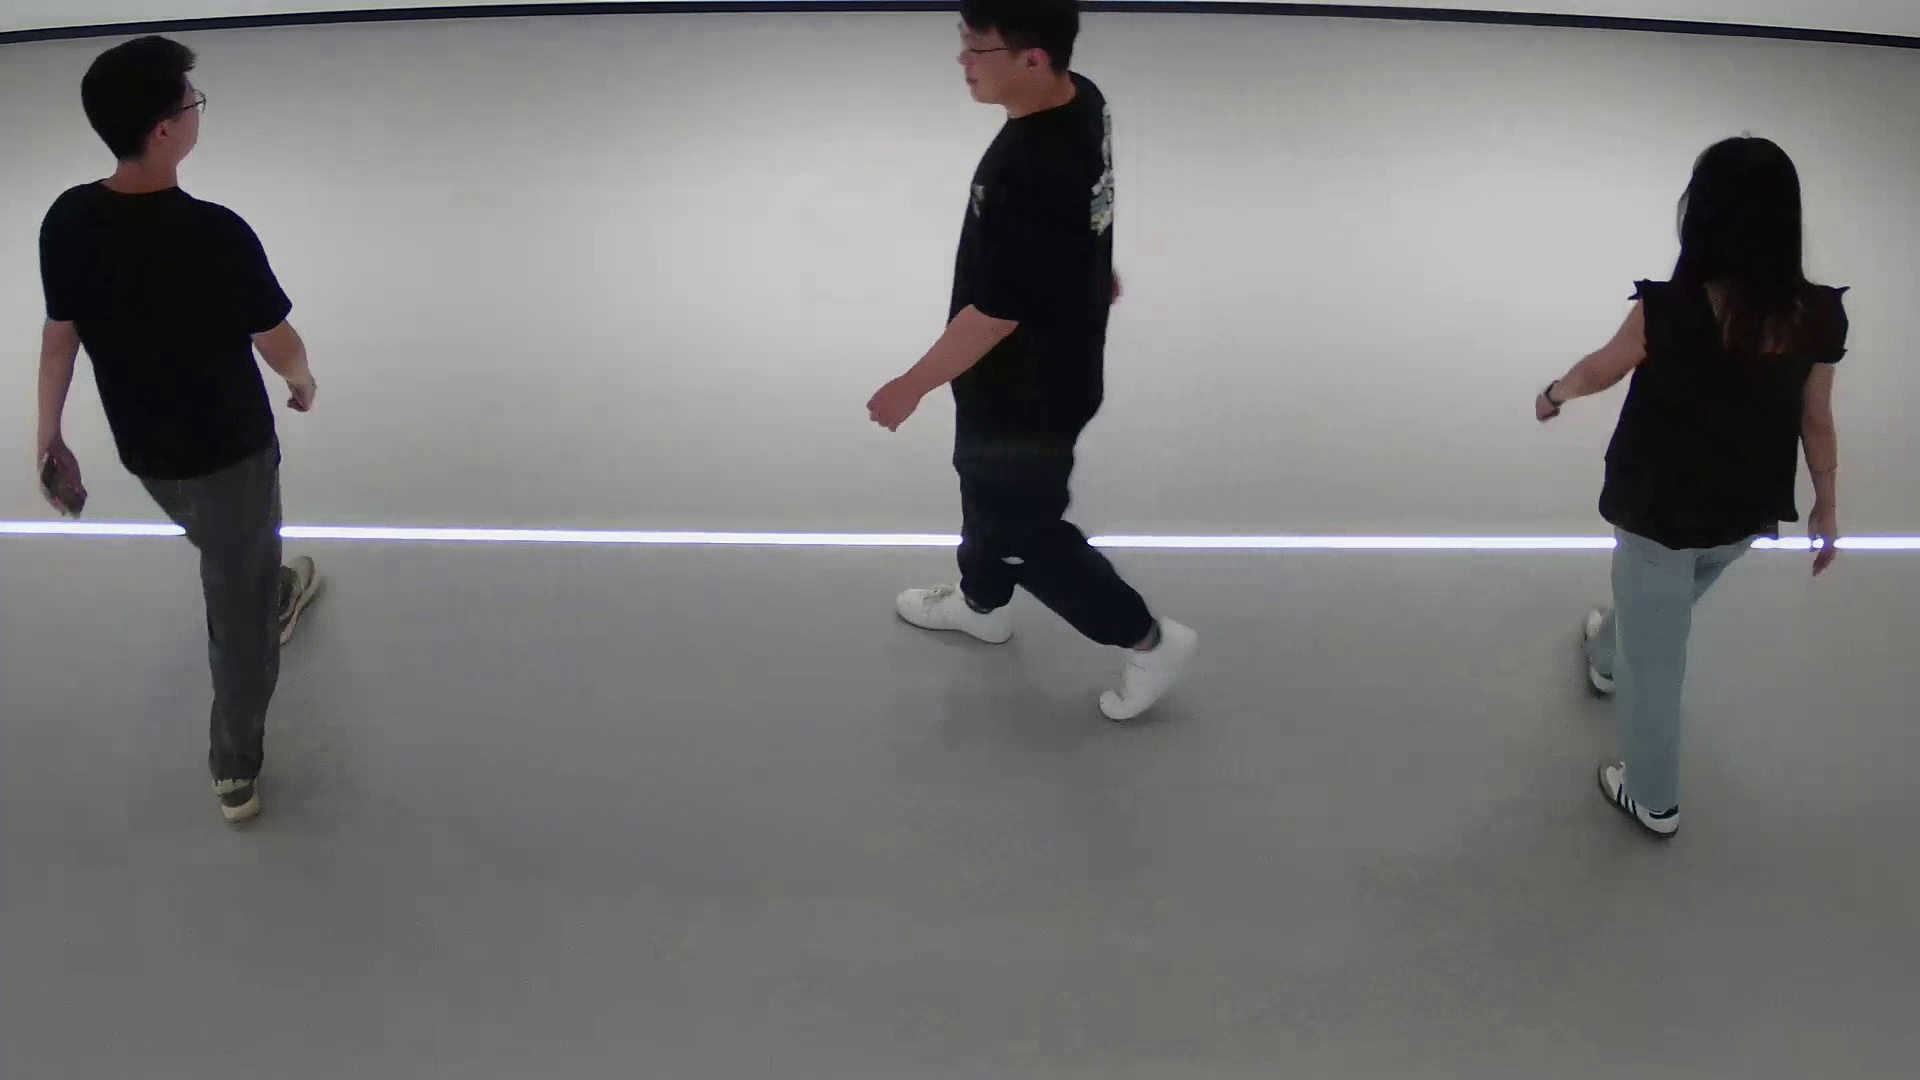normal: (12, 24, 357, 844), (844, 5, 1222, 749), (1518, 131, 1849, 847)
